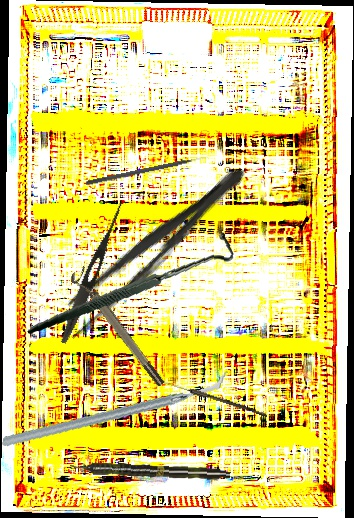Chopper: (1, 338, 229, 481)
Dressing Forceps: (51, 154, 256, 344), (57, 199, 127, 346)
Fixation Ring: (68, 265, 167, 393)
Handpiece: (69, 459, 231, 482)
Hook Surgical: (26, 211, 237, 356), (85, 155, 209, 187)
Surgical Spoon: (161, 380, 269, 417)
